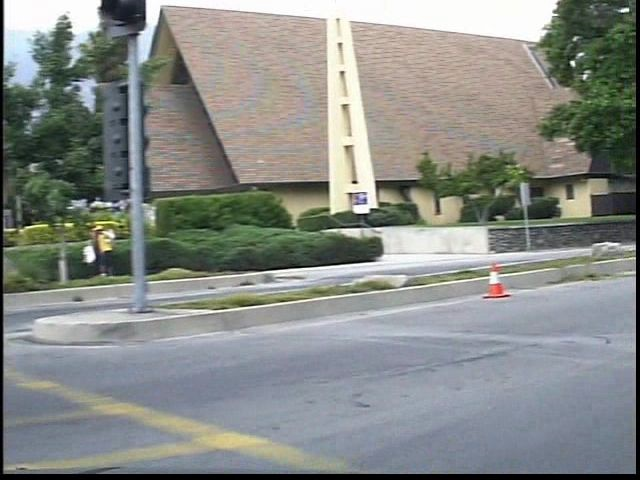person: (104, 218, 137, 278)
